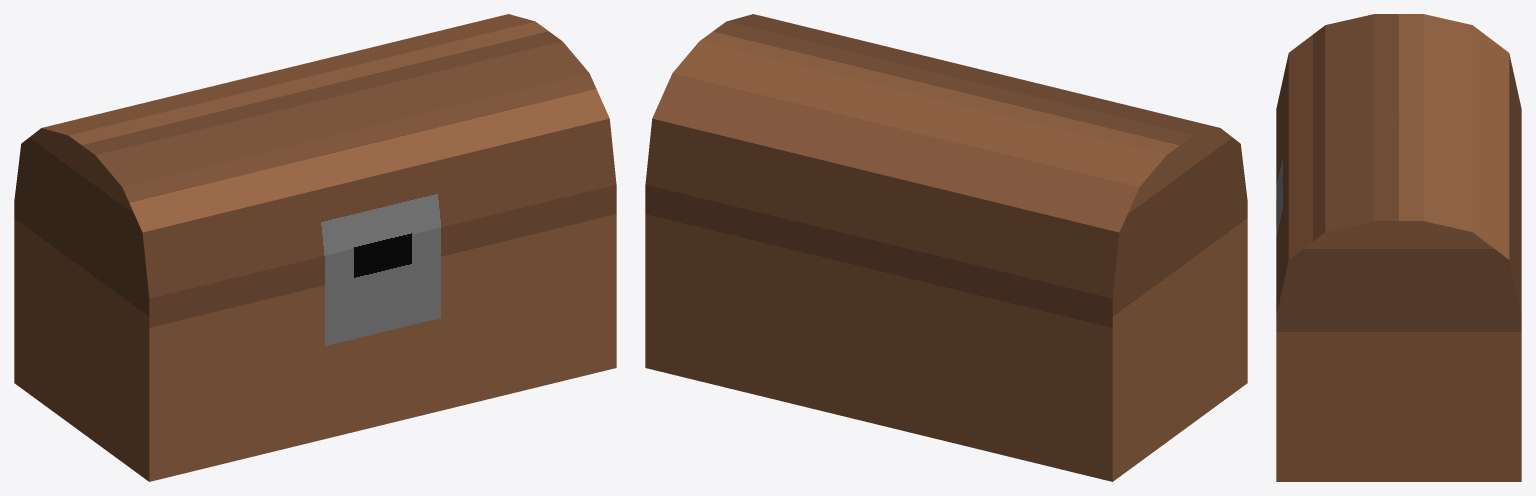
The model's file is cache.obj.
3 views of the same model, side by side, from view 1: azimuth 30°, elevation 25°; view 2: azimuth 150°, elevation 25°; view 3: azimuth 270°, elevation 25° (orthographic). The views are drawn at different scales.
Visible parts, largest first — view 1: mesh; view 2: mesh; view 3: mesh.
Part boxes in pixels (x1,y1,x2,y2): mesh: (14,14,616,481); mesh: (645,14,1247,481); mesh: (1276,14,1521,481).
Bounding box in the file's own units: 0.5 × 0.2937 × 0.25.
Materials: 1 (1 with a texture image).
